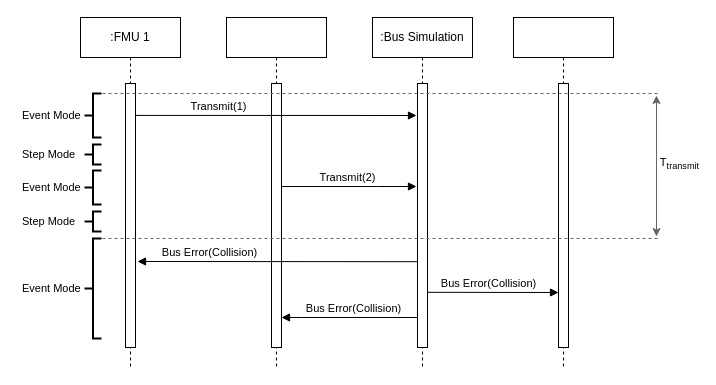
This 716x385 diagram has some shape labels left out. The box of each missing label's shape, as (x1, y1, x2, y2) in pixels:
:FMU 2: (226, 16, 326, 368)
:FMU 3: (512, 16, 614, 368)
